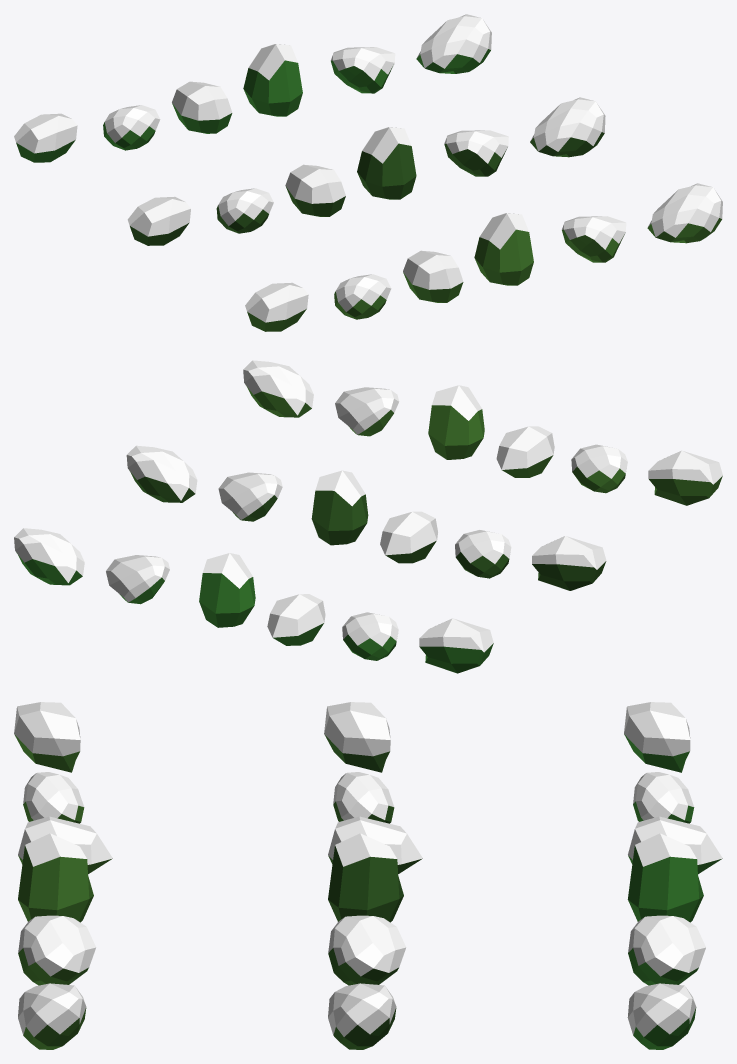
Rendered from LowPolyBush.fbx.
3 renders of one model, top to bottom at view 1: azimuth 30°, elevation 25°; view 2: azimuth 150°, elevation 25°; view 3: azimuth 270°, elevation 25°, orthographic. The views are drawn at different scales.
Parts seen in each view (by area): view 1: Cube.009, Cube.015, Cube.003, Cube.005, Cube.017, Cube.011, Cube.006, Cube, Cube.012, Cube.008, Cube.014, Cube.002 (+6 smaller); view 2: Cube.003, Cube.015, Cube.009, Cube.014, Cube.008, Cube.002, Cube.017, Cube.011, Cube.005, Cube, Cube.006, Cube.012 (+6 smaller); view 3: Cube.009, Cube.015, Cube.003, Cube.004, Cube.016, Cube.010, Cube.014, Cube.002, Cube.008, Cube.017, Cube.005, Cube.011 (+6 smaller).
Part boxes in pixels (bbox=[...]): Cube.009: bbox=[243, 44, 302, 116]; Cube.015: bbox=[474, 213, 533, 285]; Cube.003: bbox=[357, 127, 416, 199]; Cube.005: bbox=[530, 97, 605, 157]; Cube.017: bbox=[647, 183, 722, 243]; Cube.011: bbox=[416, 14, 491, 73]; Cube.006: bbox=[172, 81, 232, 133]; Cube: bbox=[285, 164, 345, 216]; Cube.012: bbox=[403, 250, 463, 302]; Cube.008: bbox=[14, 113, 77, 162]; Cube.014: bbox=[245, 282, 308, 331]; Cube.002: bbox=[127, 196, 190, 245]; Cube.003: bbox=[311, 470, 368, 545]; Cube.015: bbox=[428, 385, 484, 459]; Cube.009: bbox=[199, 553, 255, 627]; Cube.014: bbox=[648, 450, 722, 505]; Cube.008: bbox=[419, 618, 493, 673]; Cube.002: bbox=[532, 536, 606, 590]; Cube.017: bbox=[243, 360, 313, 417]; Cube.011: bbox=[14, 528, 84, 585]; Cube.005: bbox=[126, 445, 197, 502]; Cube: bbox=[380, 511, 437, 563]; Cube.006: bbox=[267, 594, 325, 645]; Cube.012: bbox=[496, 426, 554, 477]; Cube.009: bbox=[627, 833, 703, 922]; Cube.015: bbox=[18, 833, 93, 922]; Cube.003: bbox=[328, 833, 403, 922]; Cube.004: bbox=[328, 915, 406, 985]; Cube.016: bbox=[18, 915, 96, 985]; Cube.010: bbox=[628, 915, 705, 985]; Cube.014: bbox=[14, 702, 80, 772]; Cube.002: bbox=[324, 702, 390, 772]; Cube.008: bbox=[624, 702, 690, 772]; Cube.017: bbox=[18, 983, 86, 1049]; Cube.005: bbox=[328, 983, 396, 1049]; Cube.011: bbox=[627, 983, 696, 1049].
Size of the model in its own units: 9056 by 1352 by 8899.
